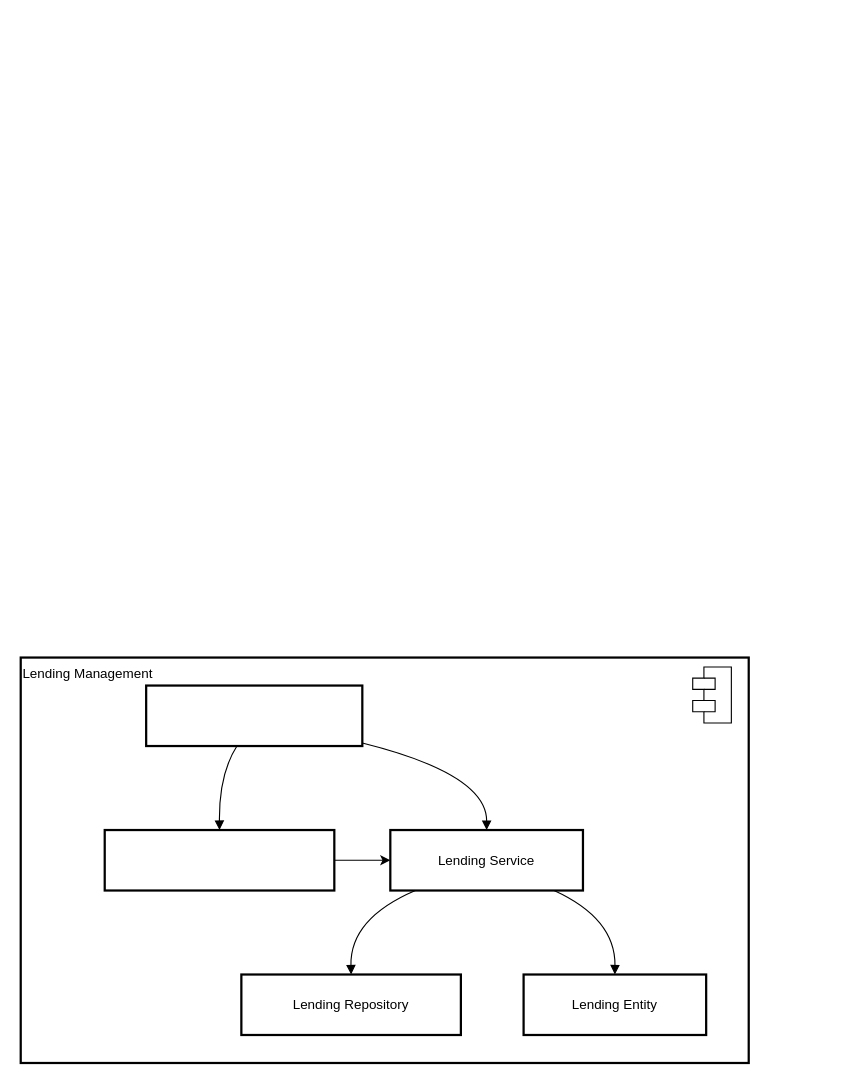
Image size: 857x1083. Some labels were removed from this diagram. Here are the shapes that lost their labels. From the top down, the centre of each, then its label:
the point at 253,715: Lending Controller
the point at 219,859: Lending DTOs/Views
